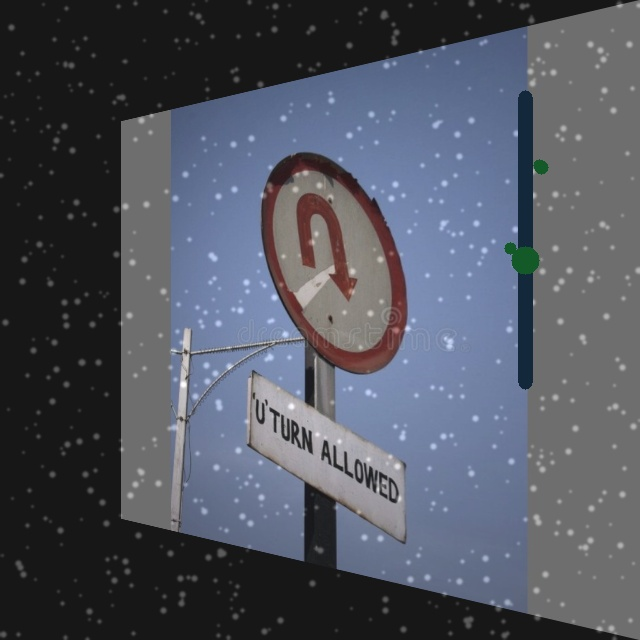U_Turn_Ahead: (263, 119, 427, 379)
